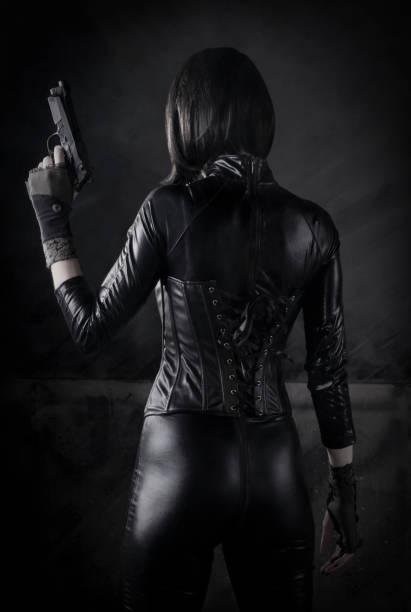weapon: (38, 78, 90, 187)
